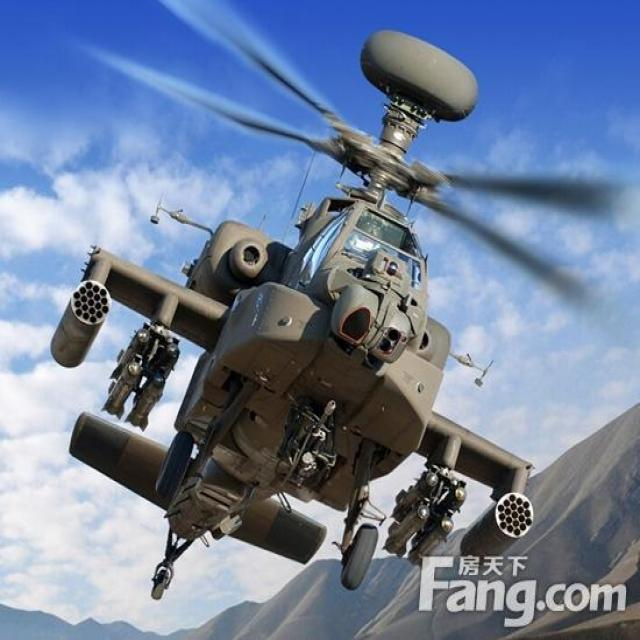MIL_HELO: (57, 0, 598, 606)
